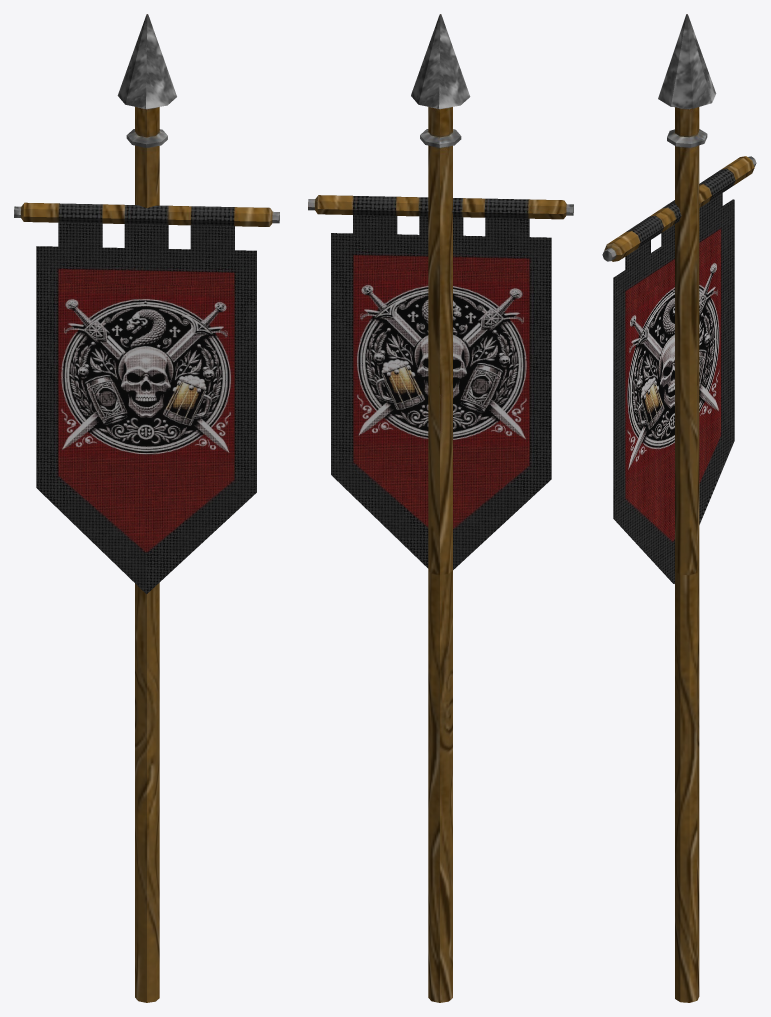
File: Flag_AB.glb
3 renders of one model, left to right at view 1: azimuth 30°, elevation 25°; view 2: azimuth 210°, elevation 25°; view 3: azimuth 270°, elevation 25°, orthographic.
Visible parts, largest first — view 1: Bannière_AB; view 2: Bannière_AB; view 3: Bannière_AB.
Boxes of the visible parts, x1,y1,x2,y2 form: Bannière_AB: [14, 14, 279, 1002]; Bannière_AB: [308, 14, 573, 1002]; Bannière_AB: [602, 14, 756, 1002].
Size of the model in its own units: 0.571 by 2.7 by 0.3828.
Materials: 1 (1 with a texture image).
